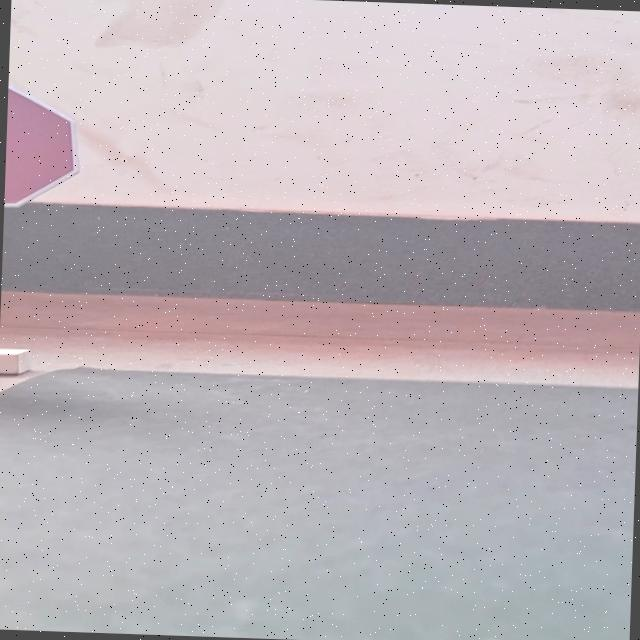Stop: (4, 84, 82, 208)
